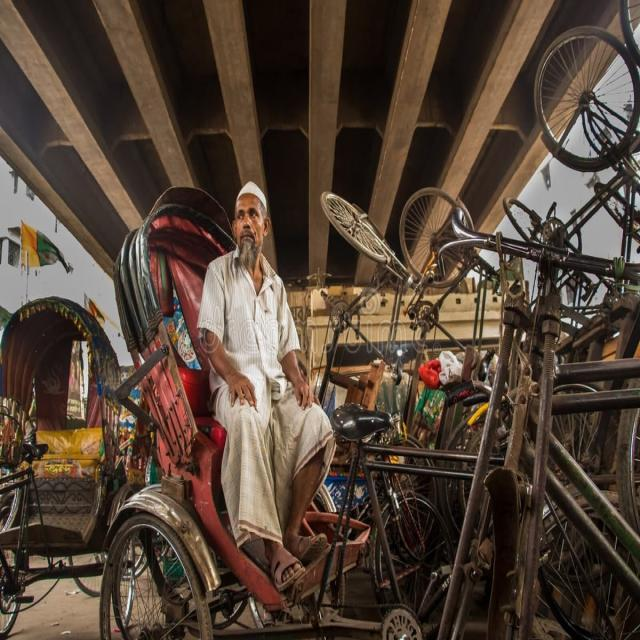Rickshaw: (83, 156, 554, 640), (1, 260, 144, 640)
